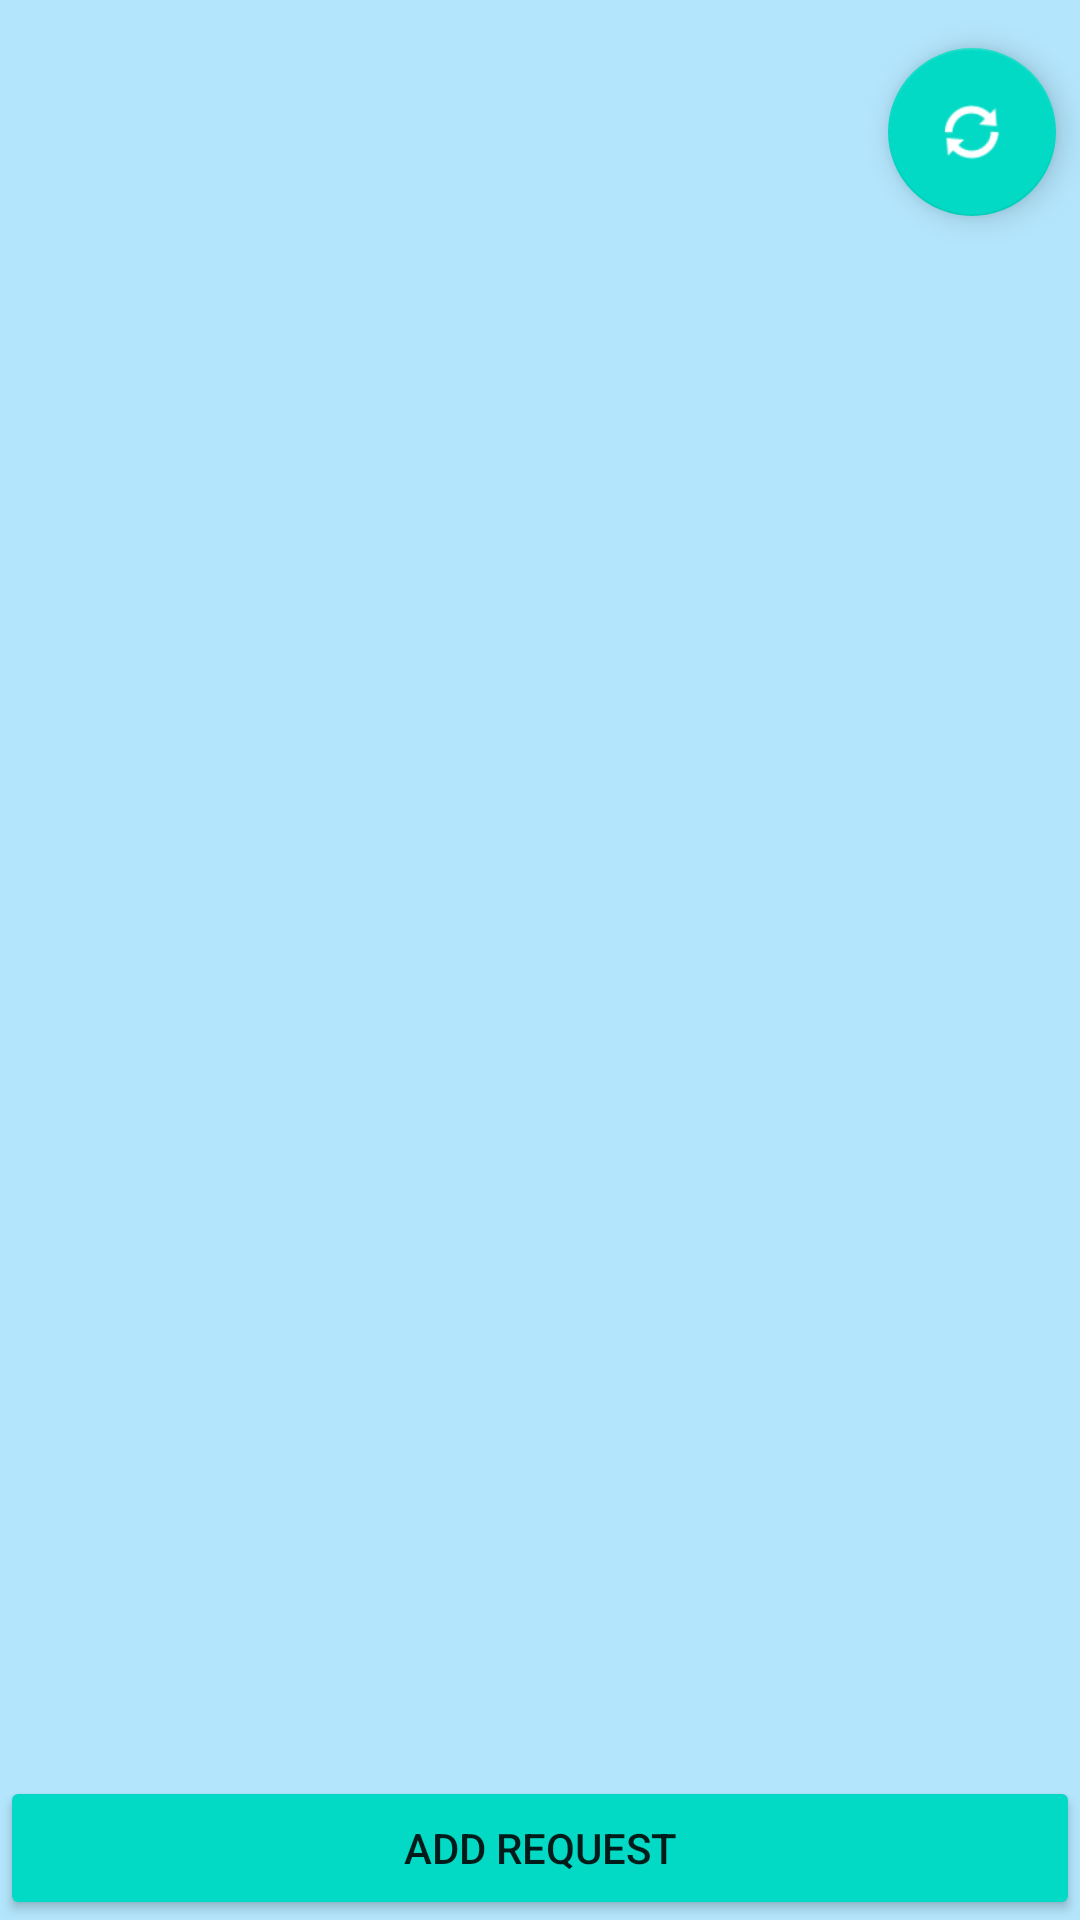

Screen size 1080w x 1920h. Icon name, then its box in pixels as (left=x1, top=y1, right=x2, bottom=y2):
popup sync: (left=888, top=48, right=1056, bottom=216)
